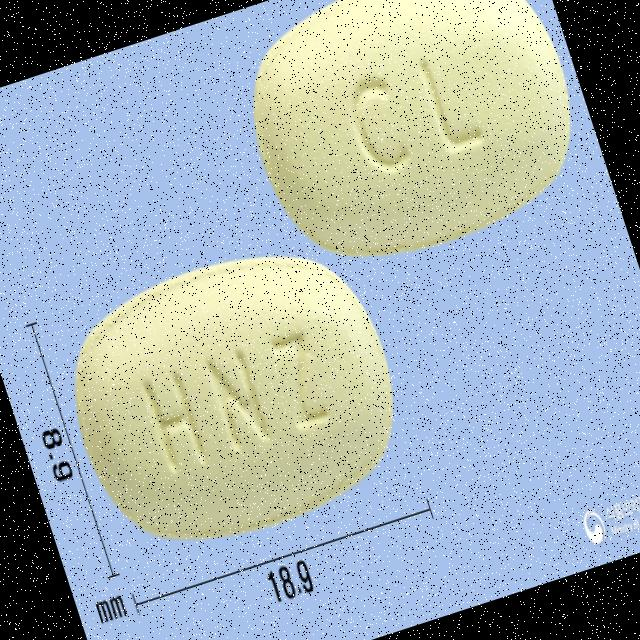Claniz: (38, 214, 434, 581), (219, 0, 606, 290)
